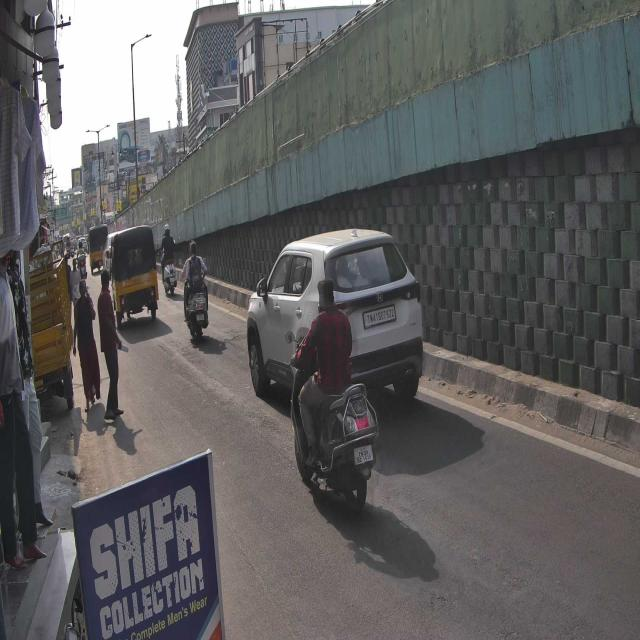single_rider: (286, 272, 382, 521)
